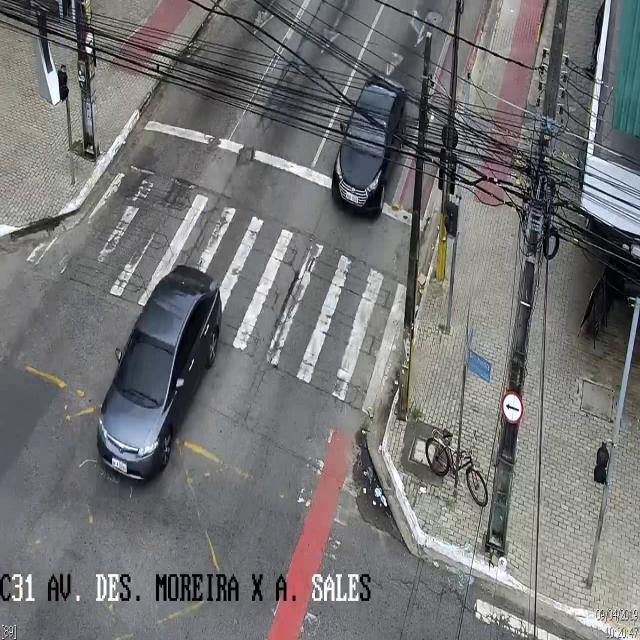Car: (98, 265, 220, 483), (331, 76, 407, 222)
